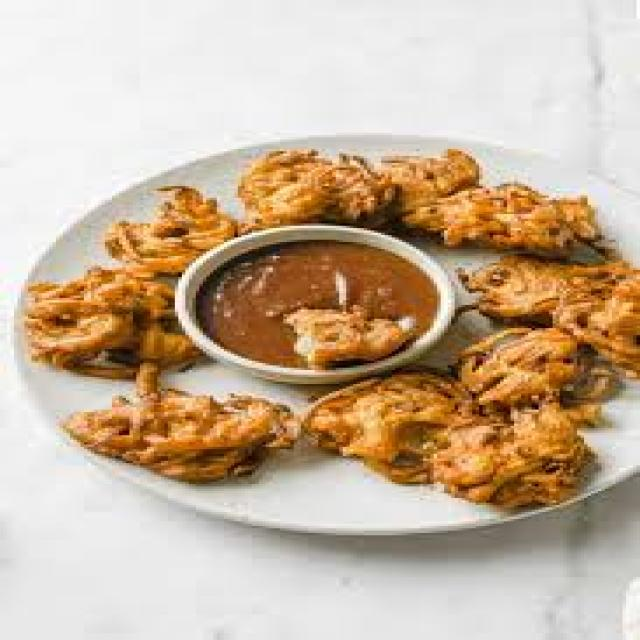BAJI: (306, 333, 623, 515), (400, 135, 612, 254), (69, 384, 294, 477), (3, 272, 197, 378), (470, 262, 637, 364), (233, 150, 406, 228), (108, 178, 236, 271)
